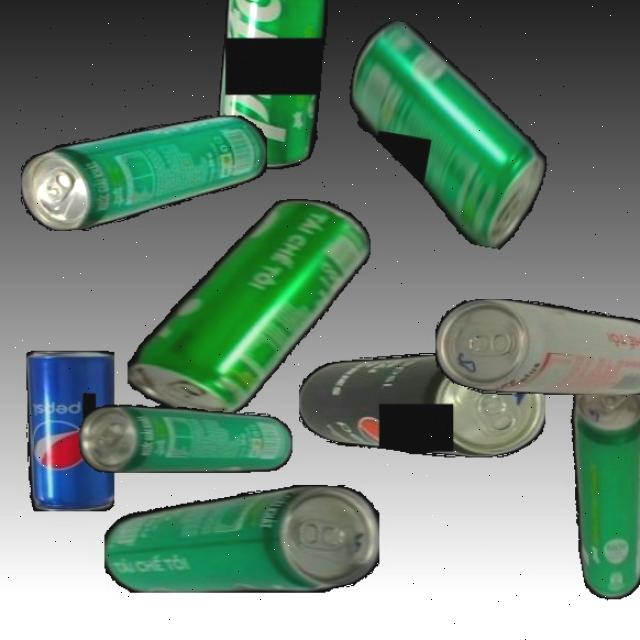debris: (328, 15, 566, 254), (127, 199, 370, 421), (103, 485, 380, 593), (21, 114, 267, 231), (298, 353, 545, 457), (214, 0, 361, 169), (550, 366, 640, 604), (435, 298, 640, 395), (79, 403, 293, 473), (26, 350, 114, 511)
